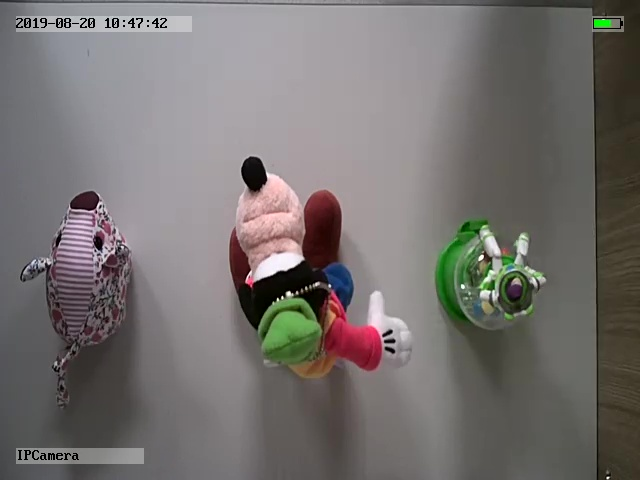buzz: (432, 219, 547, 335)
goofy: (225, 153, 417, 382)
pig: (21, 190, 136, 411)
